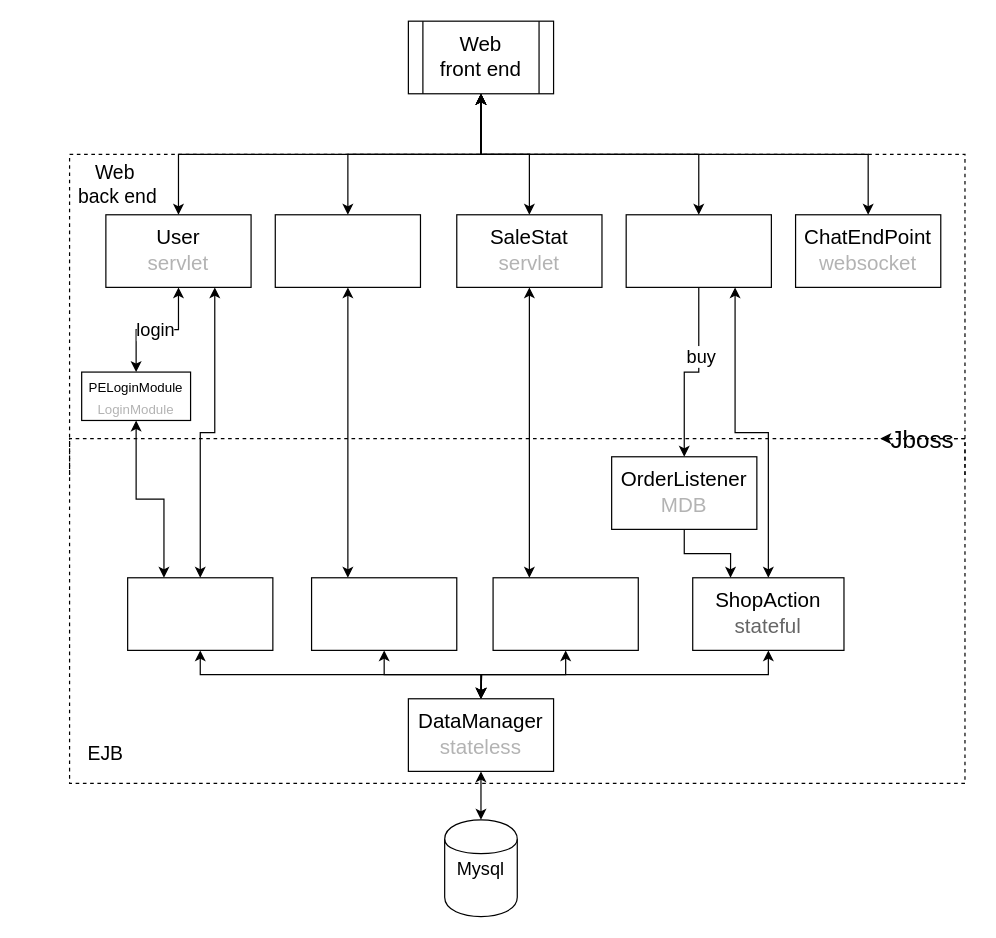
The diagram is 996 pixels wide and 938 high, and some of its shapes have lost their labels. Each missing label, with the centre of its shape:
"Book servlet" belongs at pixel 347 250.
"BookAction stateless" belongs at pixel 383 613.
"SaleStatAction stateless" belongs at pixel 565 613.
"Shop servlet" belongs at pixel 698 250.
"UserAction stateless" belongs at pixel 199 613.
